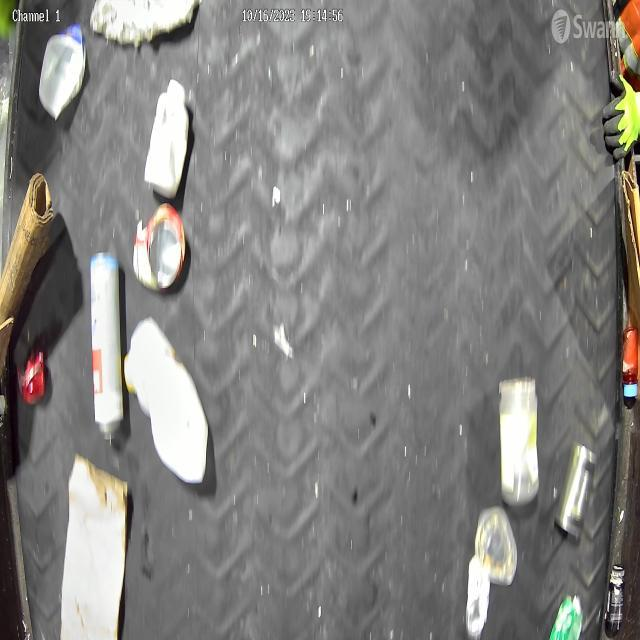can: (132, 202, 188, 290), (554, 440, 598, 540), (548, 589, 584, 640)
milk_jug: (123, 316, 212, 488)
